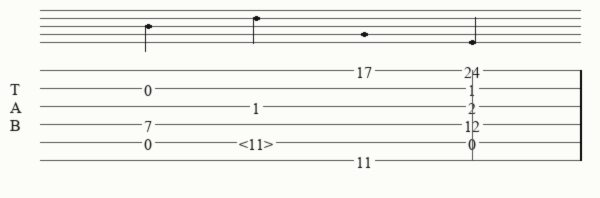0: (144, 135, 156, 150), (144, 81, 156, 96), (468, 135, 480, 150)
1: (252, 99, 264, 114), (468, 81, 480, 96)
11: (356, 153, 376, 168)
12: (464, 117, 484, 132)
17: (356, 63, 376, 78)
2: (468, 99, 480, 114)
24: (464, 63, 484, 78)
7: (144, 117, 156, 132)
harmonic: (239, 135, 277, 150)
